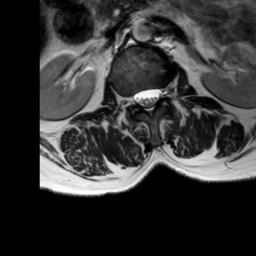CCS_normal: (142, 80, 152, 122)
LFS_normal: (161, 78, 170, 106)
LLS_normal: (152, 79, 161, 110)
RFS_normal: (125, 83, 133, 115)
RLS_normal: (133, 80, 142, 115)
